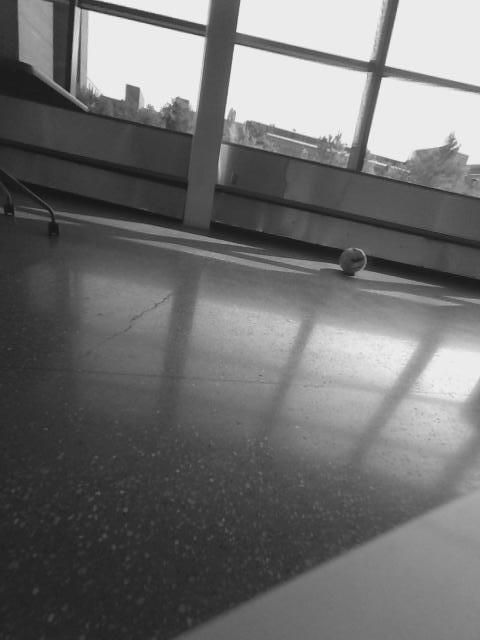ball: (338, 246, 368, 275)
